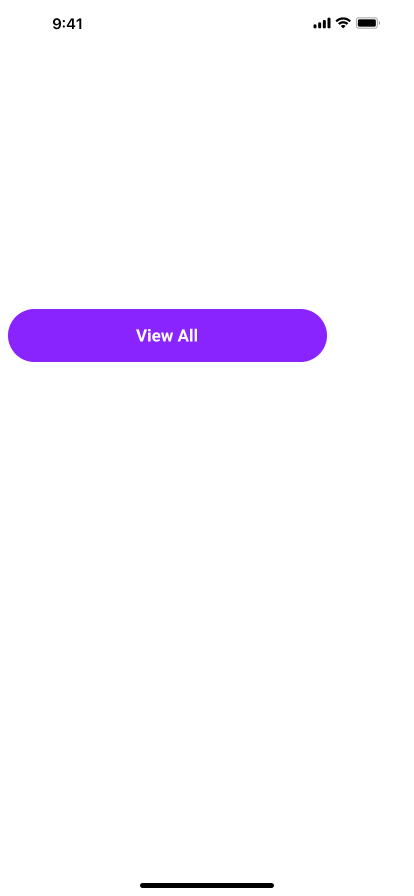Buttons: (8, 309, 327, 362)
Home Indicator: (0, 862, 414, 896)
Status Bar: (0, 0, 414, 44)
